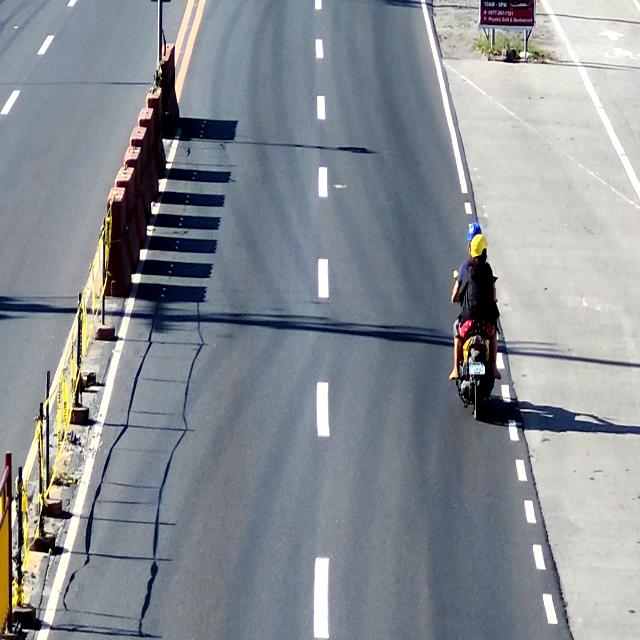License-Plate: (465, 358, 486, 377)
Motorcycle: (452, 224, 503, 433)
